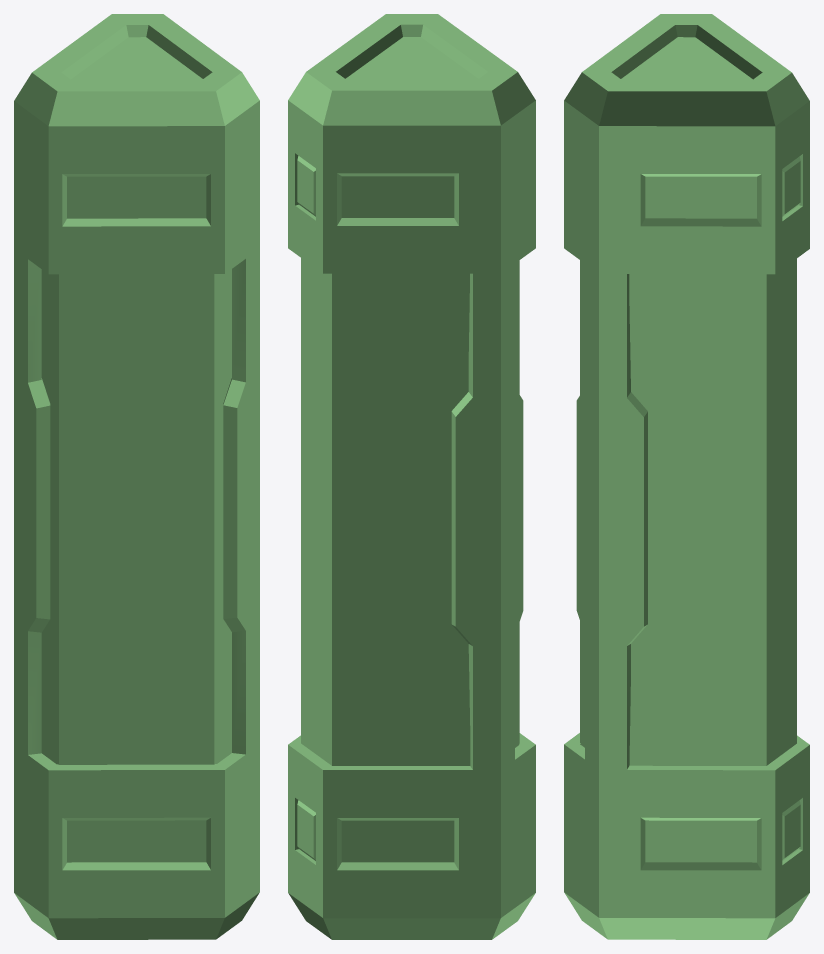
The model's file is energy 4.fbx.
The picture shows the model from 3 angles, left to right: view 1: azimuth 30°, elevation 25°; view 2: azimuth 150°, elevation 25°; view 3: azimuth 270°, elevation 25°; orthographic projection.
Parts seen in each view (by area): view 1: Object008; view 2: Object008; view 3: Object008.
Part boxes in pixels (bbox=[...]): Object008: bbox=[14, 14, 259, 939]; Object008: bbox=[288, 14, 535, 939]; Object008: bbox=[564, 14, 809, 939].
Size of the model in its own units: 1237 by 5400 by 1418.
